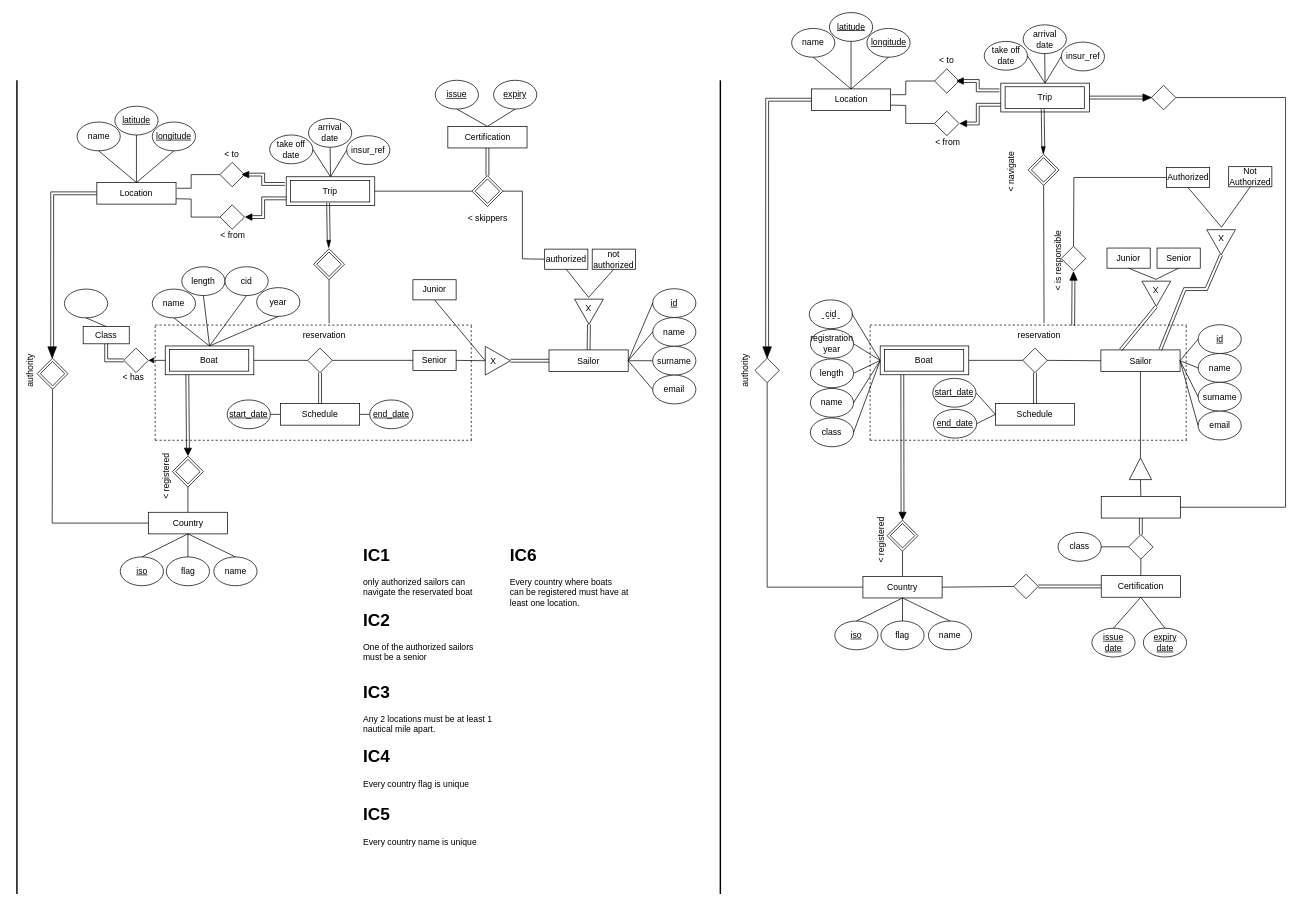
The diagram is 1299 pixels wide and 907 high, and some of its shapes have lost their labels. The shapes that lost their labels are listed below. From the top down, each one's centre as x and y in pixels, then its label:
the point at 86,303: max length
the point at 1140,507: Skipper
